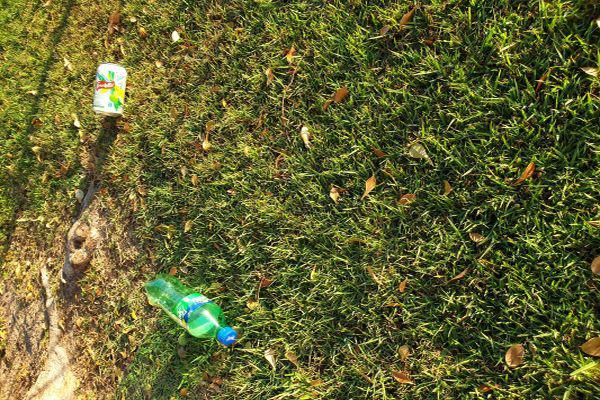Plastic Bottle: (143, 273, 237, 346), (92, 62, 127, 117)
